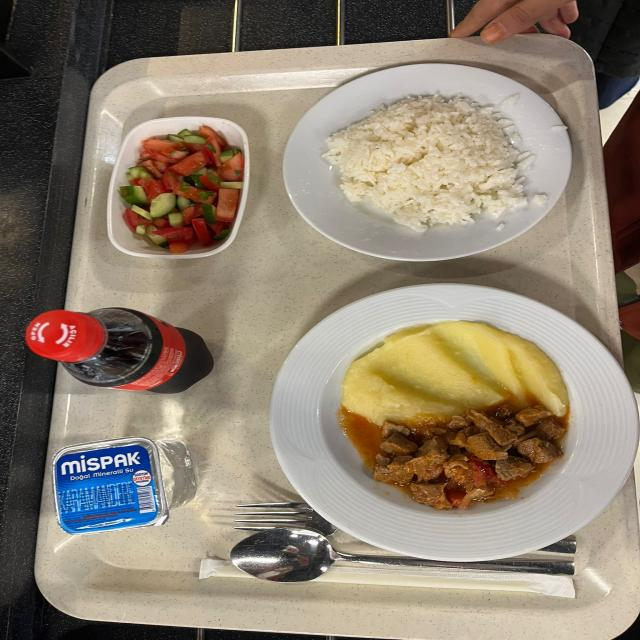ana_yemek: (286, 308, 599, 544), (294, 74, 580, 252)
yan_yemek: (114, 110, 247, 271)
